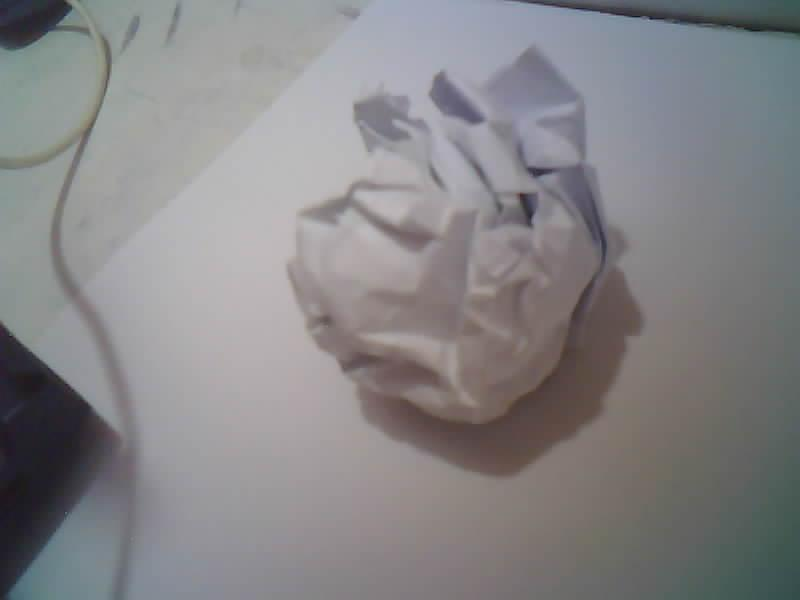biodegradable: (288, 46, 612, 423)
